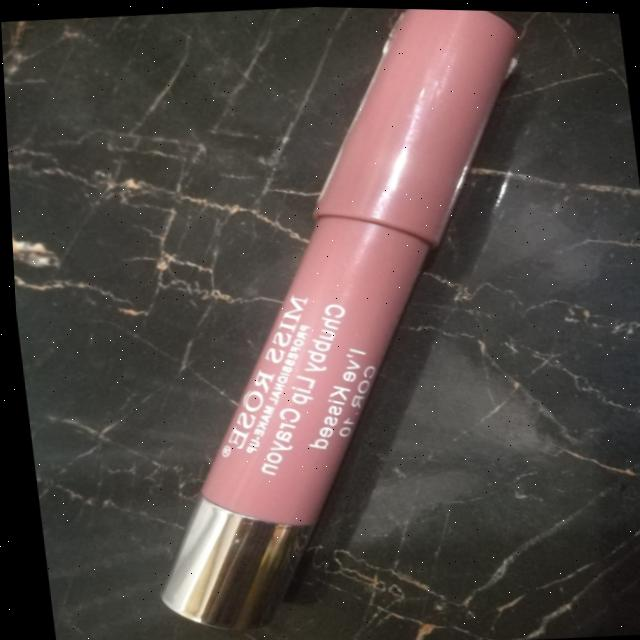lip liner: (72, 1, 599, 640)
